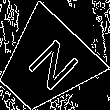N_SW: (13, 33, 77, 97)
